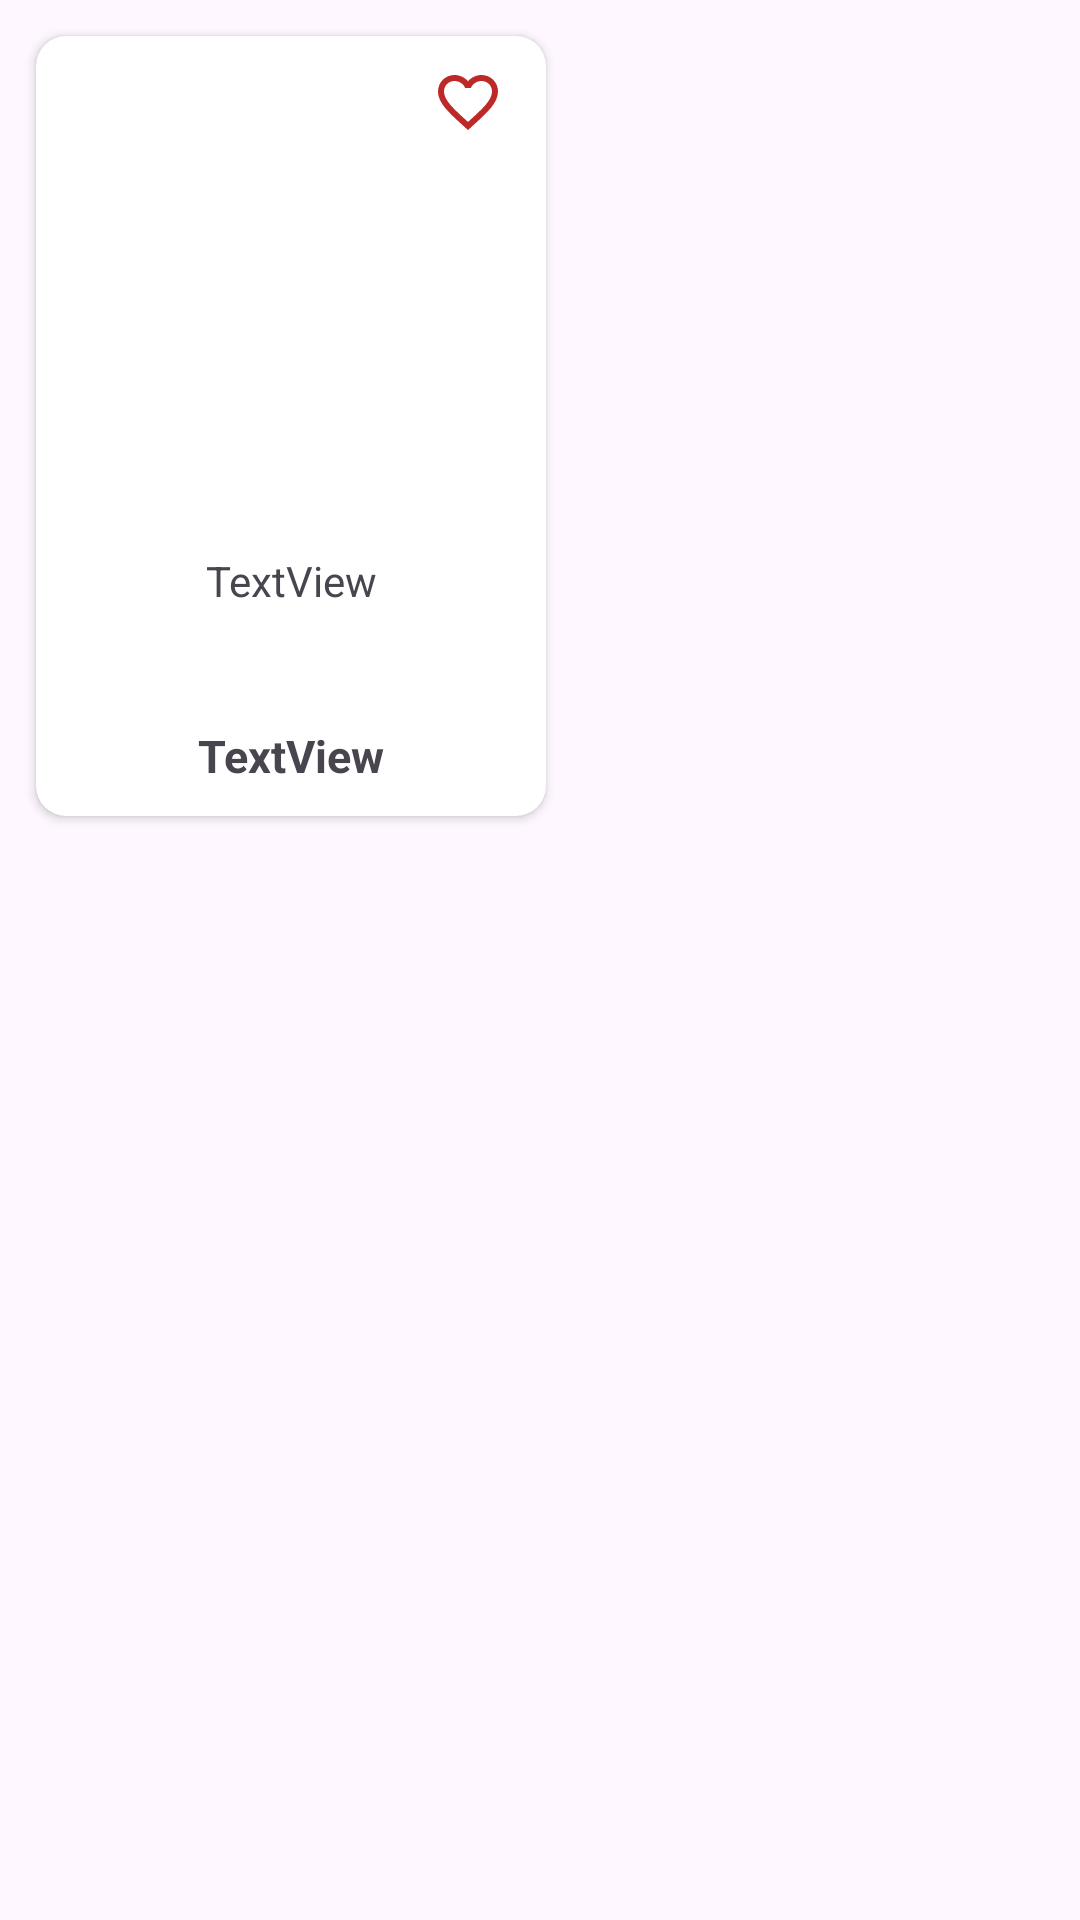

Screen size 1080 × 1920. Icon name, then its box in pixels as [x1=x1, y1=y1, x2=x2, y2=y2]:
fav empty: [x1=438, y1=75, x2=498, y2=130]
